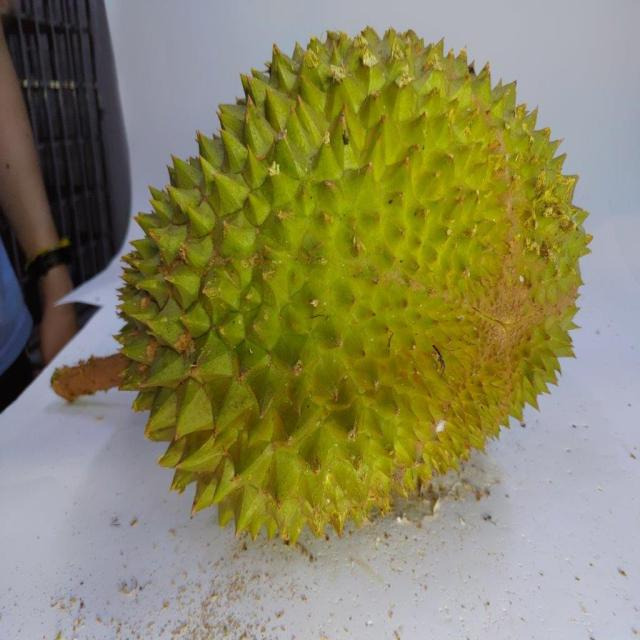immature: (118, 23, 588, 561)
